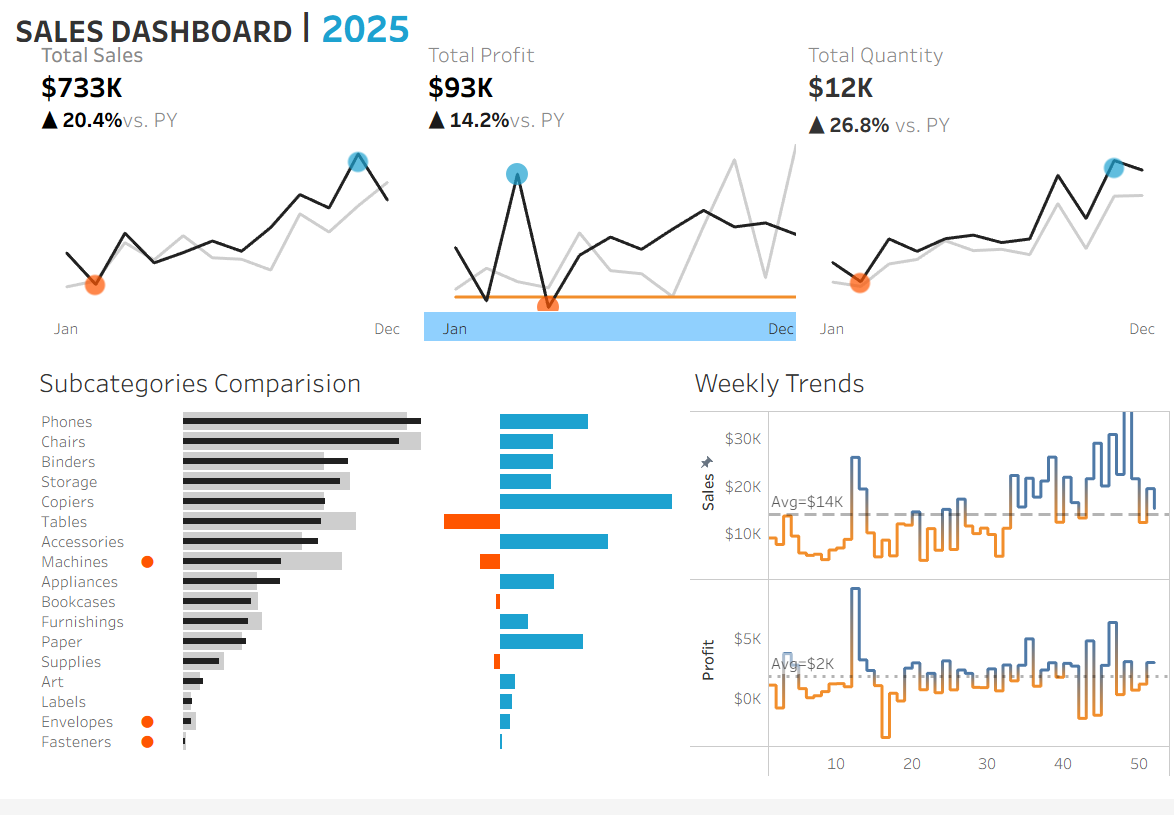

The dashboard page shown, as its layout file describes it:
{"tool":"tableau","page":{"name":"Sales Dashboard","canvas":[1200,800],"ordinal":0},"visuals":[{"type":"title","box":[8,8,1184,39]},{"type":"worksheet","title":"KPI Sales","mark":"Automatic","rows":["Calculation_252201594591309824"],"cols":["Order Date"],"box":[33,33,387,313]},{"type":"worksheet","title":"KPI Profit","mark":"Automatic","rows":["Min/Max Sales (copy)_252201594592600066"],"cols":["Order Date"],"box":[420,33,380,313]},{"type":"worksheet","title":"KPI Quantity","mark":"Automatic","rows":["Min/Max Sales (copy)_252201594592829443"],"cols":["Order Date"],"box":[800,33,374,313]},{"type":"worksheet","title":"Subcategories Comparision","mark":"Bar","rows":["Sub-Category","Calculation_675821434704486400"],"cols":["CY Sales (copy)_1422856022407507969","Calculation_1422856022407233536","CY Sales (copy)_473722401240522754"],"box":[31,358,655.5,424]},{"type":"worksheet","title":"Weekly Trends","mark":"Automatic","rows":["Calculation_1422856022407233536","CY Sales (copy)_473722401240522754"],"cols":["Order Date"],"box":[686.5,358,487.5,424]}]}

Visuals, with their boxes on the page's 1200x800 design canvas (x1, y1, x2, y2). These are canvas units, not pixel positions in the 1174x815 screenshot, which may show the page scaled, cropped or inside an application window:
title: crop(8, 8, 1192, 47)
"KPI Sales" worksheet: crop(33, 33, 420, 346)
"KPI Profit" worksheet: crop(420, 33, 800, 346)
"KPI Quantity" worksheet: crop(800, 33, 1174, 346)
"Subcategories Comparision" worksheet (Bar marks): crop(31, 358, 686, 782)
"Weekly Trends" worksheet: crop(686, 358, 1174, 782)
